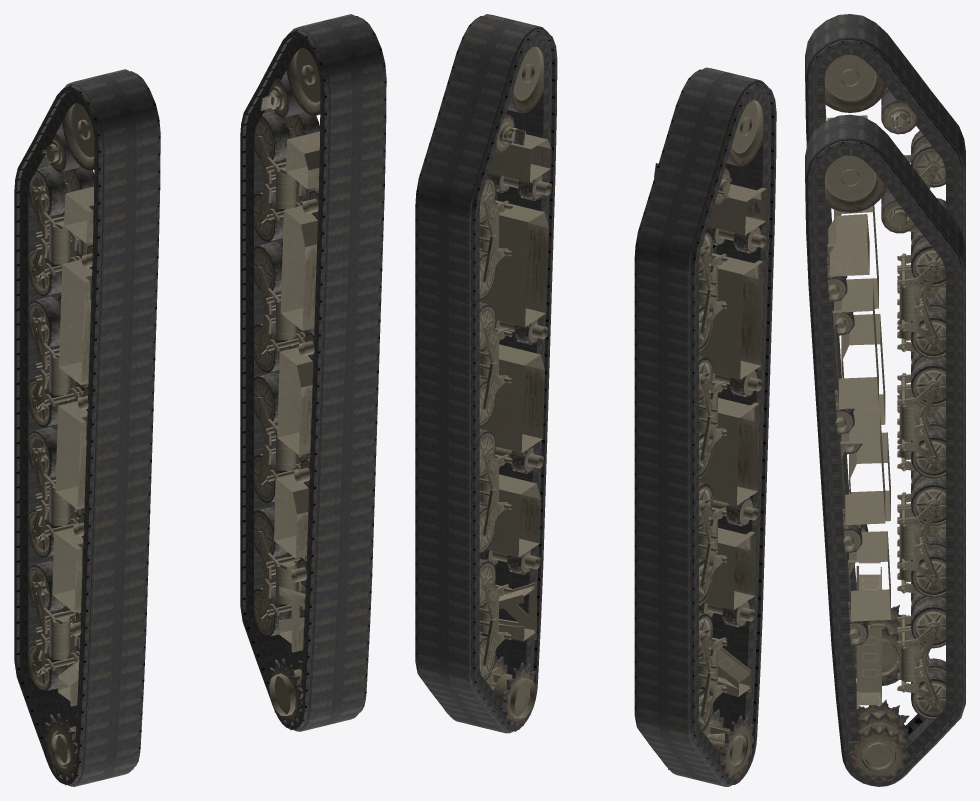
The model's file is Chassis.glb.
3 renders of one model, left to right at view 1: azimuth 30°, elevation 25°; view 2: azimuth 150°, elevation 25°; view 3: azimuth 270°, elevation 25°, orthographic. The views are drawn at different scales.
Visible parts, largest first — view 1: set_3_group_0, set_2_group_0, set_0_group_0, set_1_group_0; view 2: set_3_group_0, set_2_group_0, set_0_group_0, set_1_group_0; view 3: set_0_group_0, set_2_group_0, set_1_group_0, set_3_group_0.
Boxes of the visible parts, left/top/right/bottom form: set_3_group_0: left=14, top=69, right=160, bottom=786; set_2_group_0: left=240, top=14, right=386, bottom=731; set_0_group_0: left=254, top=48, right=363, bottom=730; set_1_group_0: left=28, top=103, right=138, bottom=785; set_3_group_0: left=634, top=67, right=776, bottom=786; set_2_group_0: left=415, top=14, right=557, bottom=733; set_0_group_0: left=479, top=46, right=551, bottom=731; set_1_group_0: left=654, top=100, right=766, bottom=783; set_0_group_0: left=825, top=155, right=945, bottom=785; set_2_group_0: left=805, top=114, right=965, bottom=786; set_1_group_0: left=825, top=55, right=945, bottom=685; set_3_group_0: left=805, top=14, right=965, bottom=685.
Size of the model in its own units: 3.09 by 7.22 by 1.62.
Materials: 4 (4 with a texture image).
